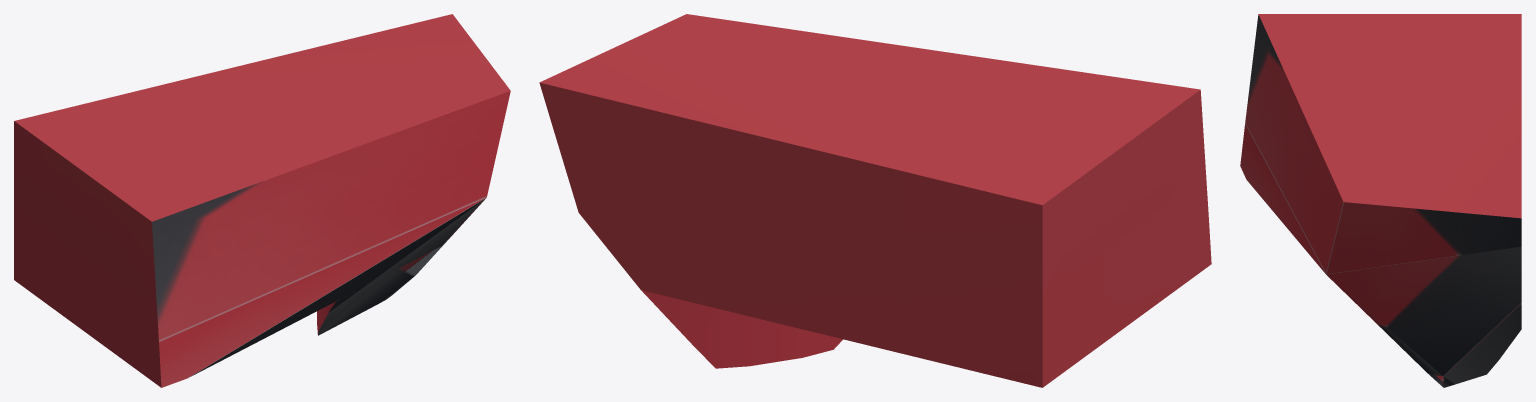
Rendered from torii_broken_048.obj.
The picture shows the model from 3 angles, left to right: view 1: azimuth 30°, elevation 25°; view 2: azimuth 150°, elevation 25°; view 3: azimuth 270°, elevation 25°; orthographic projection. The views are drawn at different scales.
Visible parts, largest first — view 1: 鳥居.001_cell.050_鳥居.001_cell.030; view 2: 鳥居.001_cell.050_鳥居.001_cell.030; view 3: 鳥居.001_cell.050_鳥居.001_cell.030.
Part boxes in pixels (left/top/right/bottom): 鳥居.001_cell.050_鳥居.001_cell.030: left=14, top=14, right=510, bottom=387; 鳥居.001_cell.050_鳥居.001_cell.030: left=539, top=14, right=1211, bottom=387; 鳥居.001_cell.050_鳥居.001_cell.030: left=1240, top=14, right=1521, bottom=387.
Bounding box in the file's own units: 0.4646 × 0.2326 × 0.2704.
1 material, 1 textured.
